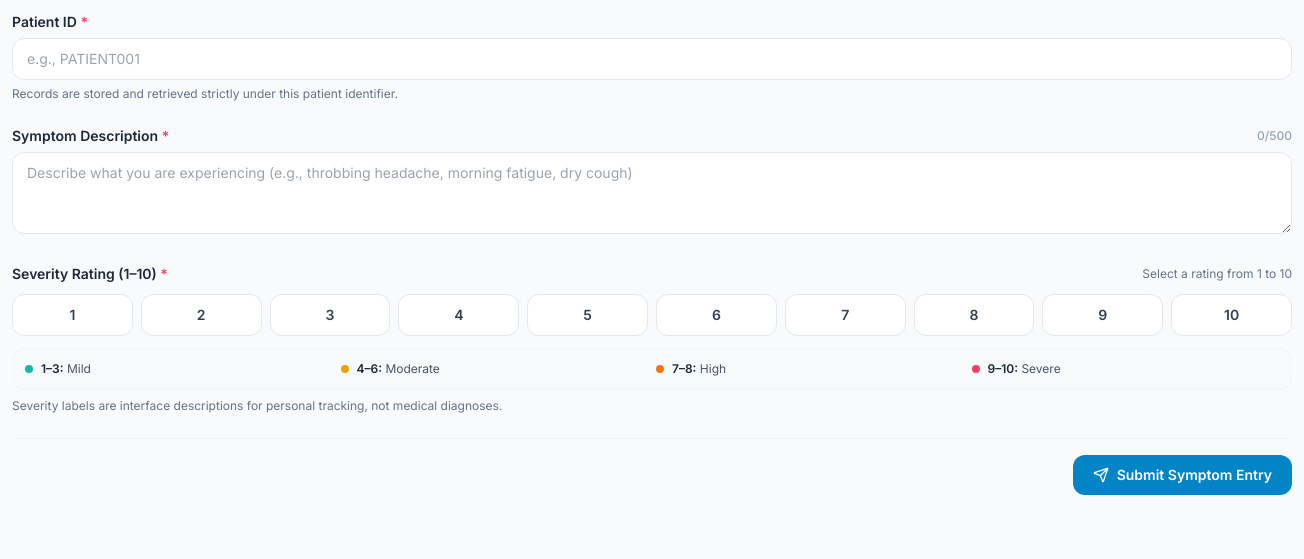
SymptomForm › validates required patient ID and symptom description fields
Click the button "Submit Symptom Entry" at (1182, 475), box [1073,455,1292,495]
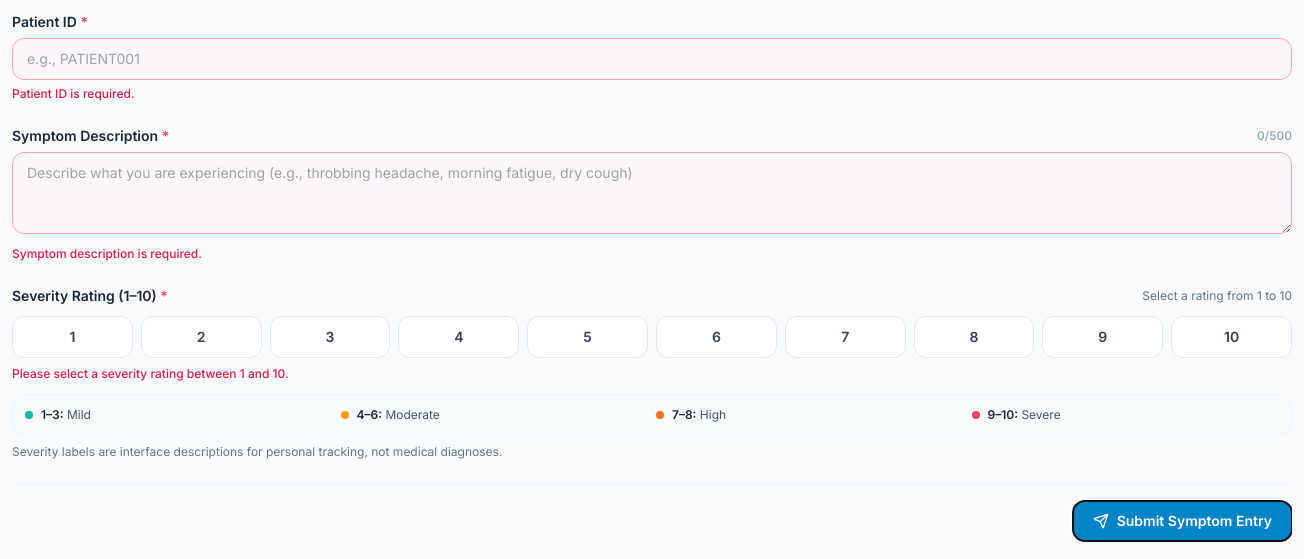
expect the text "Patient ID is required." is shown: met, box [12,86,135,101]
expect the text "Symptom description is required." is shown: met, box [12,246,202,261]
